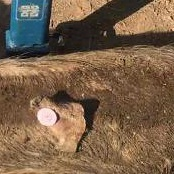text: (26, 98, 64, 136)
